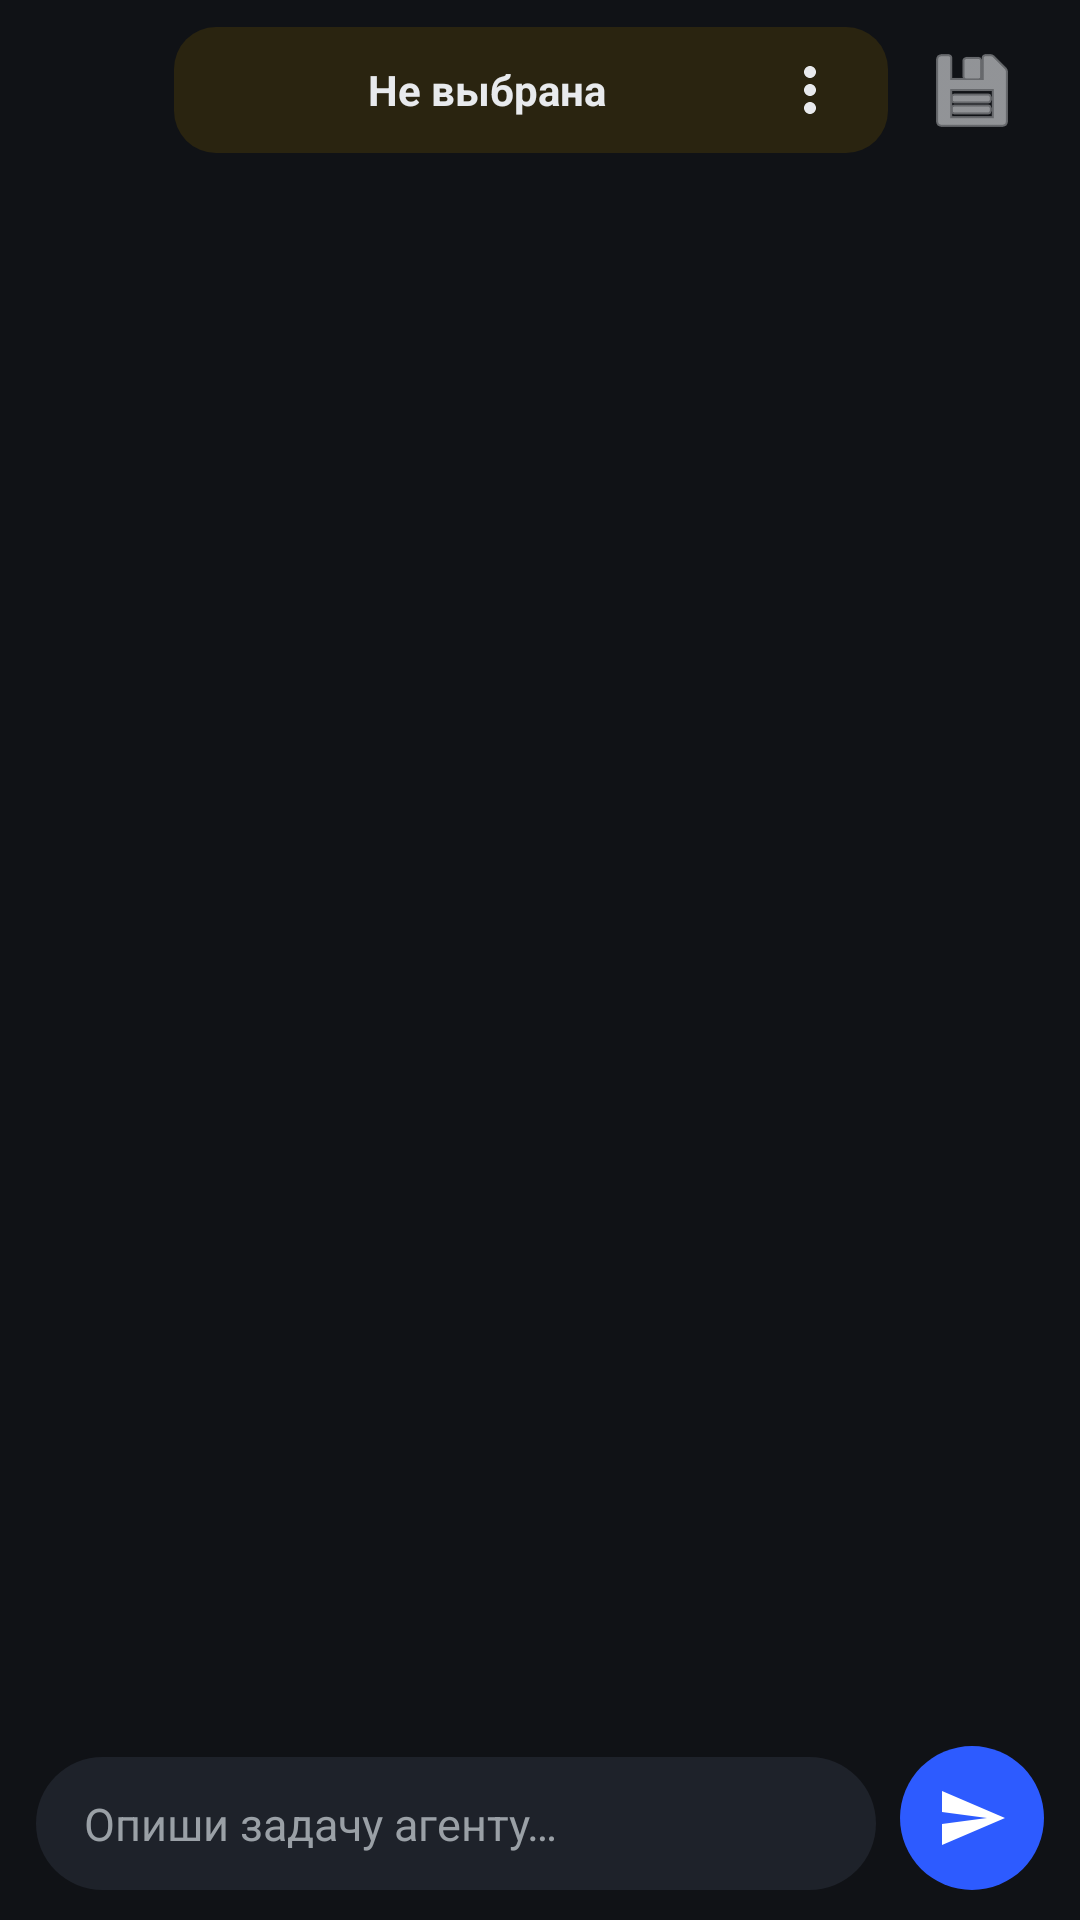

Where icons sit on this 1080*1920 app screen, as (x1, y1, x2, y2):
Отправить: (900, 1746, 1044, 1890)
